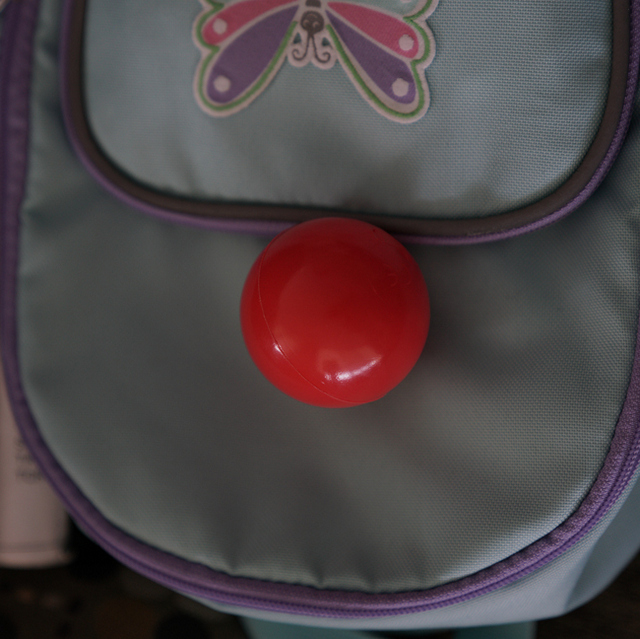Ball: (241, 219, 432, 411)
